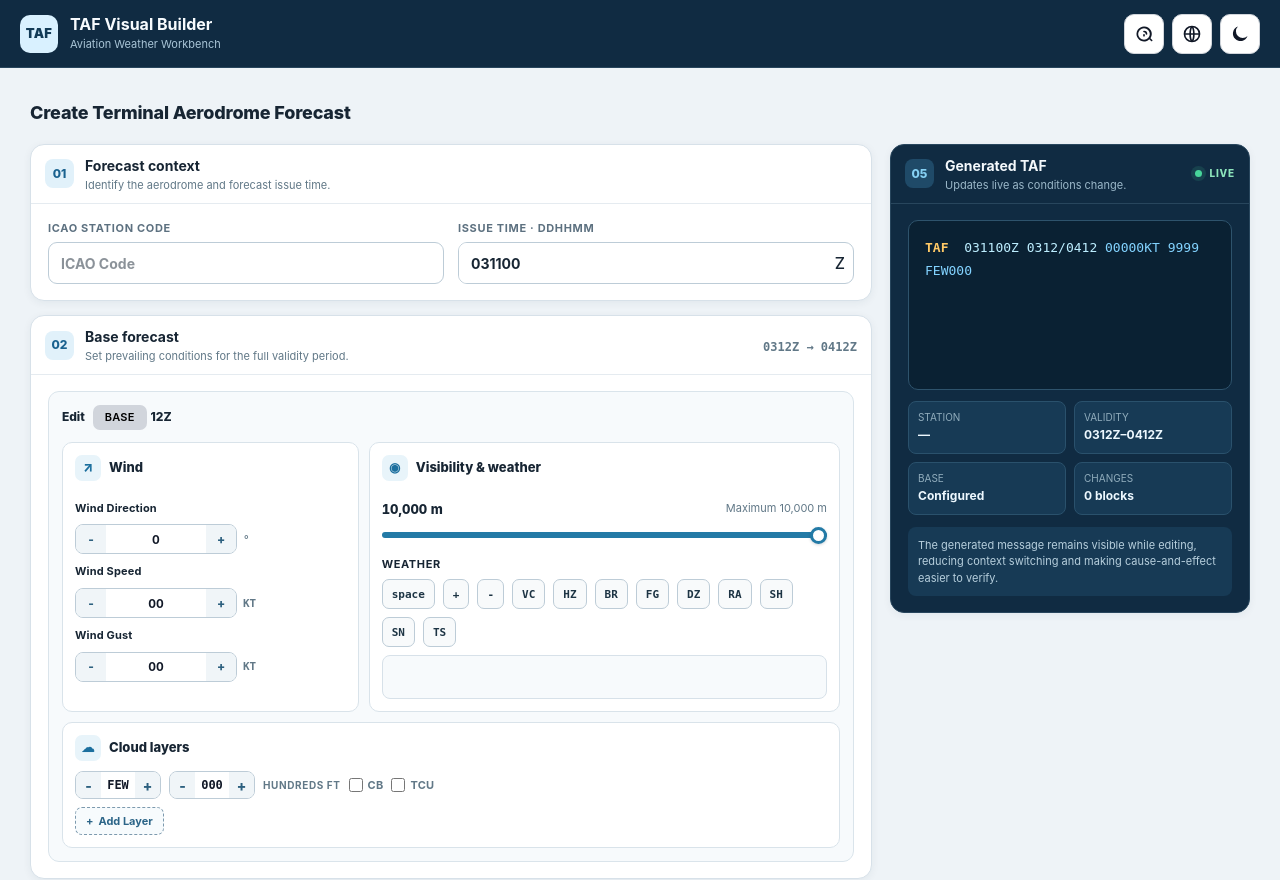
Test case: TafBuilder aviation workbench › matches the approved workbench hierarchy
The image size is (1280, 880).
Check: the heading "Create Terminal Aerodrome Forecast" is shown, box [30,98,351,126]
Check: the heading "↗ Wind" is shown, box [75,455,143,481]
Click the button "Add Layer" at (119, 821), box [75,807,164,835]
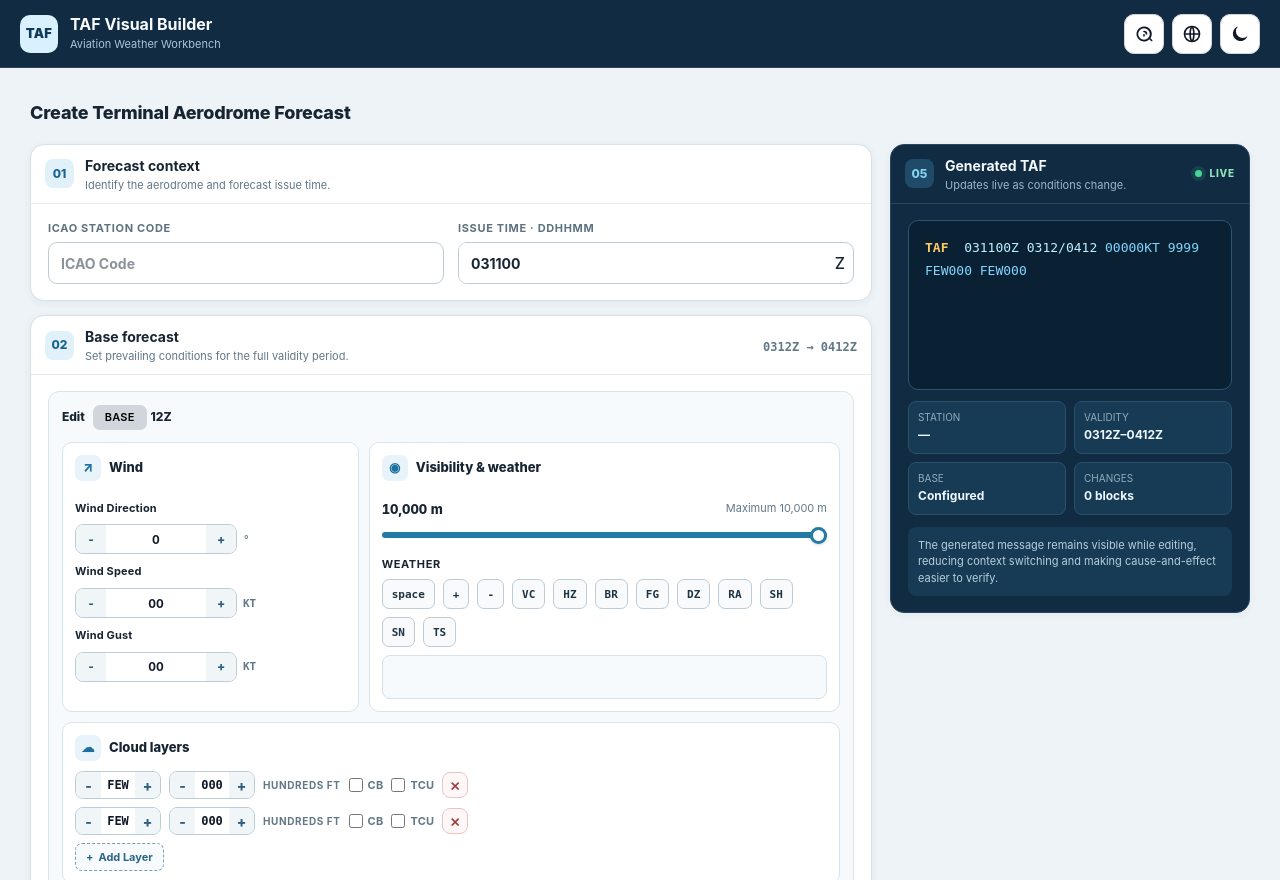
Click the button "Add Layer" at (119, 857), box [75,843,164,871]
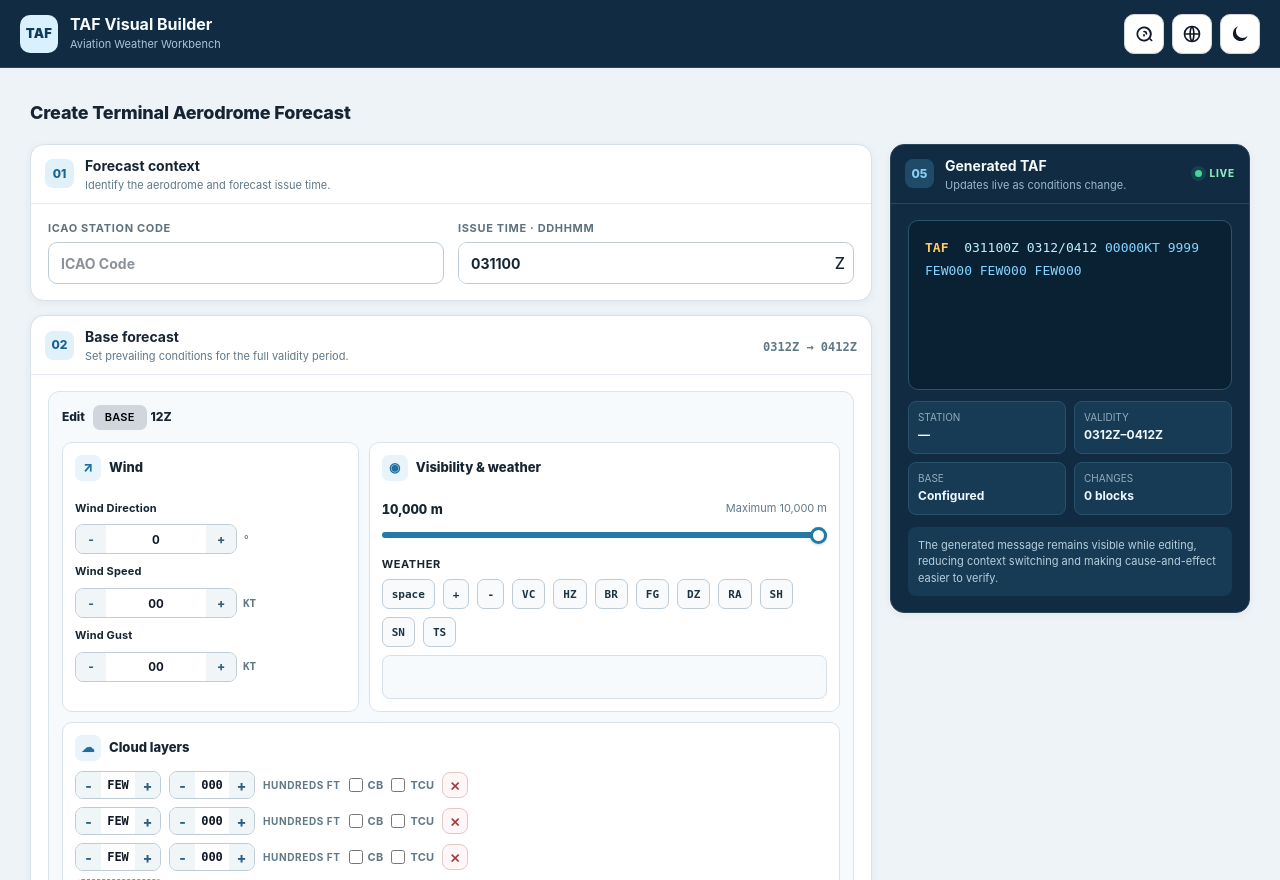
Check: the number of elements with class "cloud-layer-row" is 3, box [75,771,468,799]; [75,807,468,835]; [75,843,468,871]
